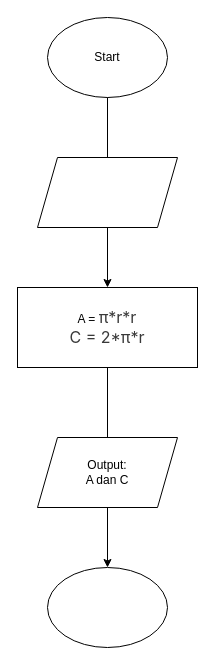
Image size: 215x665. Some labels were removed from this diagram. Each missing label, with the centre of its shape:
"End" belongs at pixel 107 607.
"Input: π, r" belongs at pixel 107 192.
